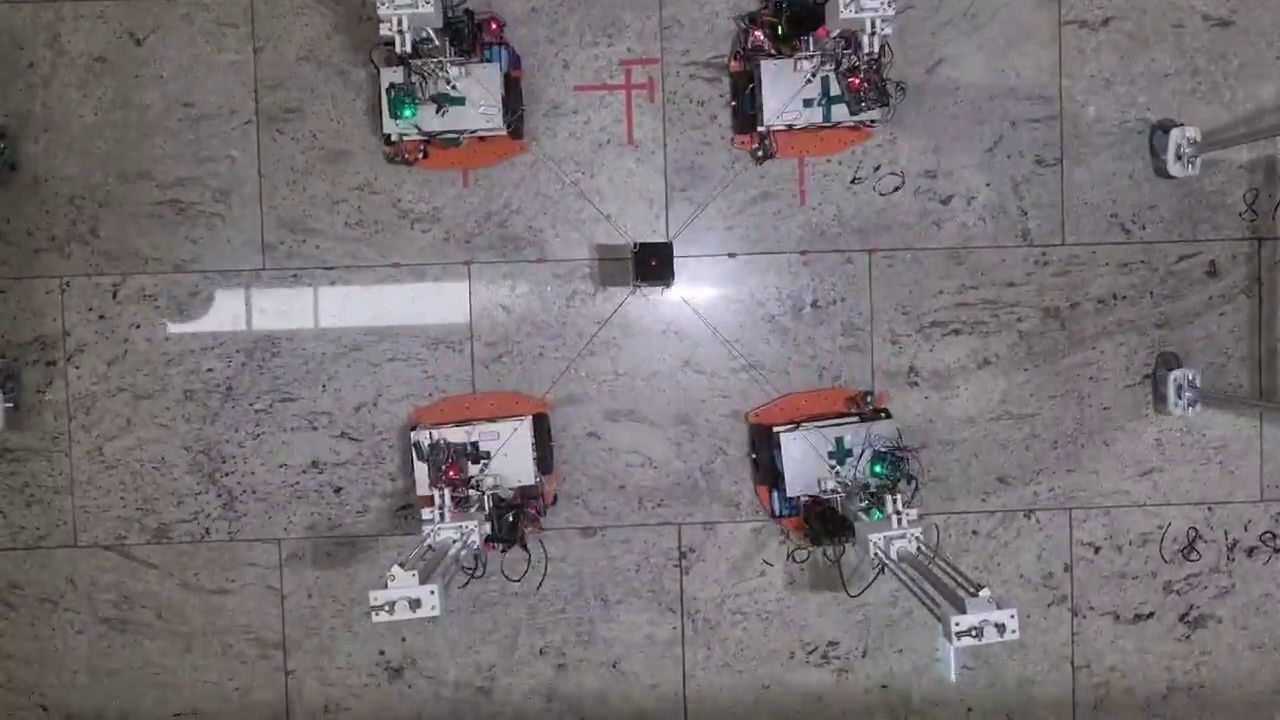e0: (633, 241, 672, 282)
r1: (749, 408, 895, 487)
r2: (731, 51, 882, 131)
r3: (378, 73, 526, 141)
r4: (412, 414, 556, 487)
y_+_axis_vector: (681, 508, 1071, 525)
y_-_axis_vector: (278, 524, 681, 538)
